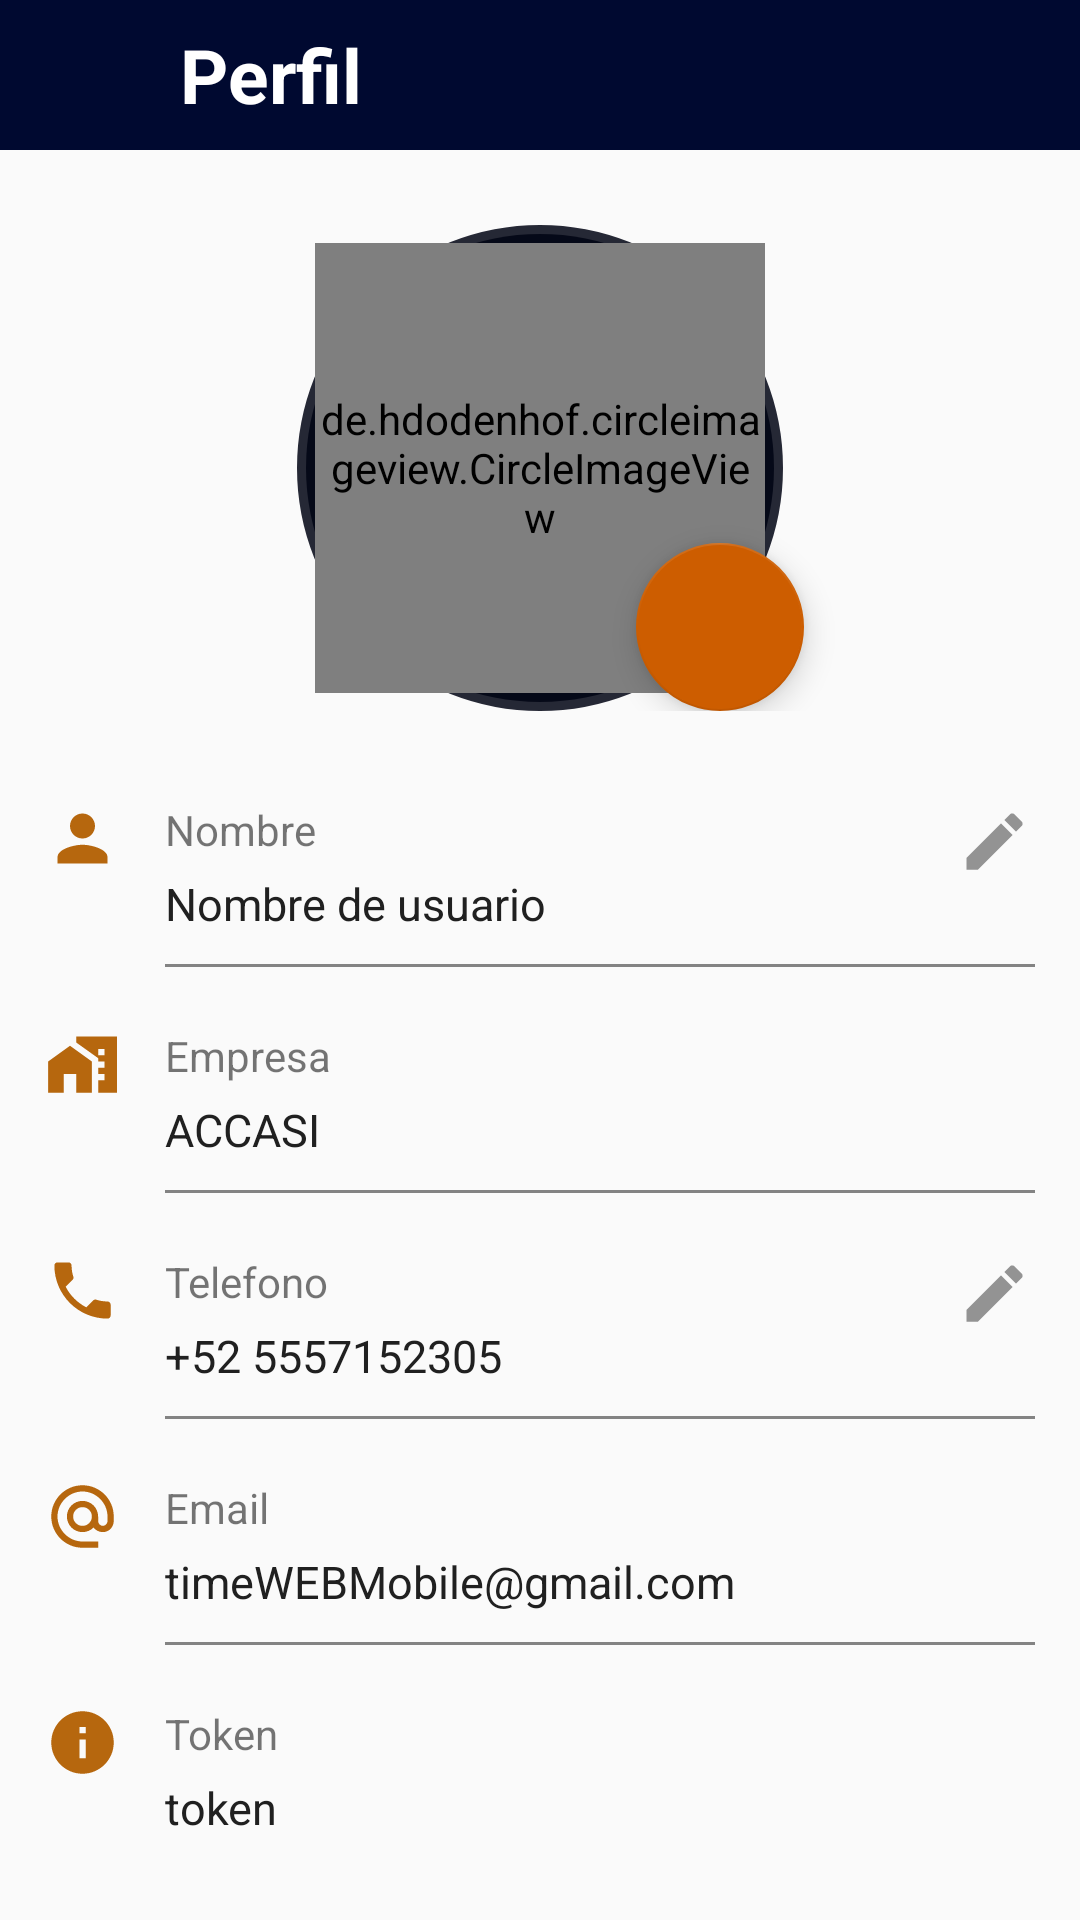

Icon bounding boxes for this 1080 x 1920 phone screenshot, format (x1, y1, x2, y2):
edit: (966, 813, 1023, 870), (966, 1265, 1023, 1322)
info: (51, 1711, 114, 1774)
person: (57, 813, 108, 864)
phone: (54, 1262, 111, 1319)
